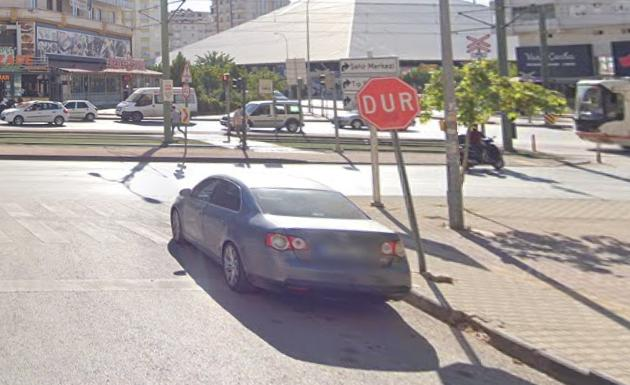stop: (356, 76, 421, 132)
